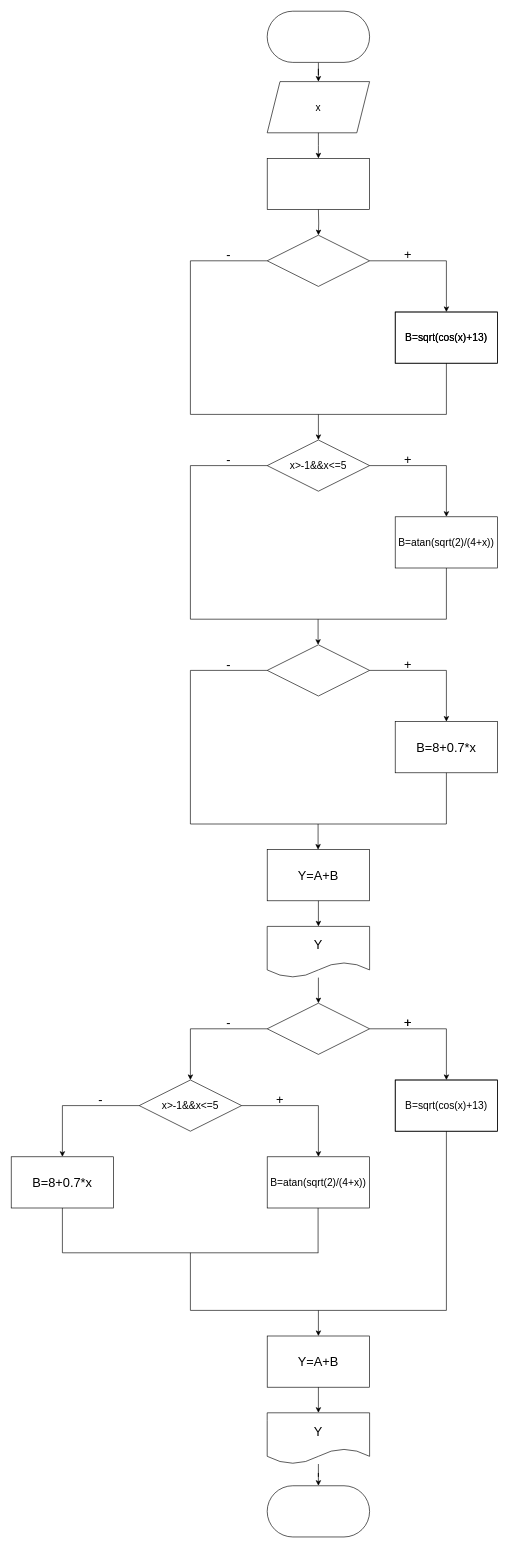
Image size: 509x1548. Some labels were removed from this diagram. Each missing label, with the box of its shape:
X<-1: (267, 1003, 370, 1054)
X<=-1: (267, 235, 370, 286)
x=2+1.fabs(1+x): (267, 158, 370, 210)
x>5: (267, 644, 370, 696)
Кінець: (267, 1485, 370, 1537)
Початок: (267, 11, 370, 62)
